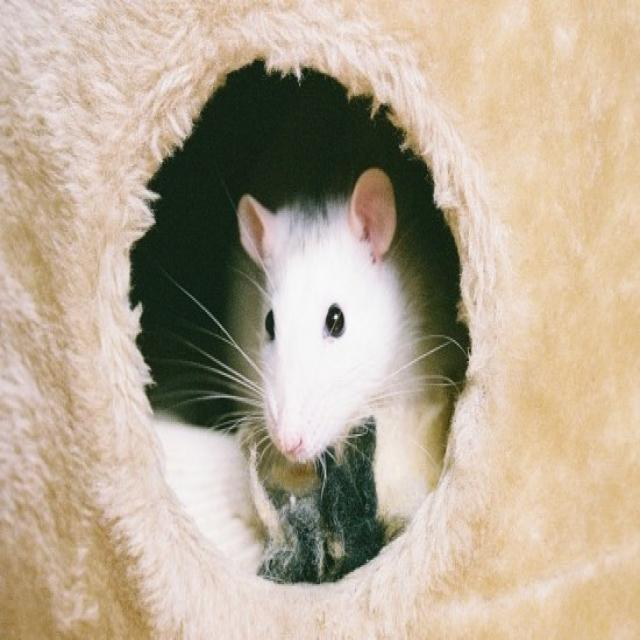rat: (229, 167, 436, 493)
